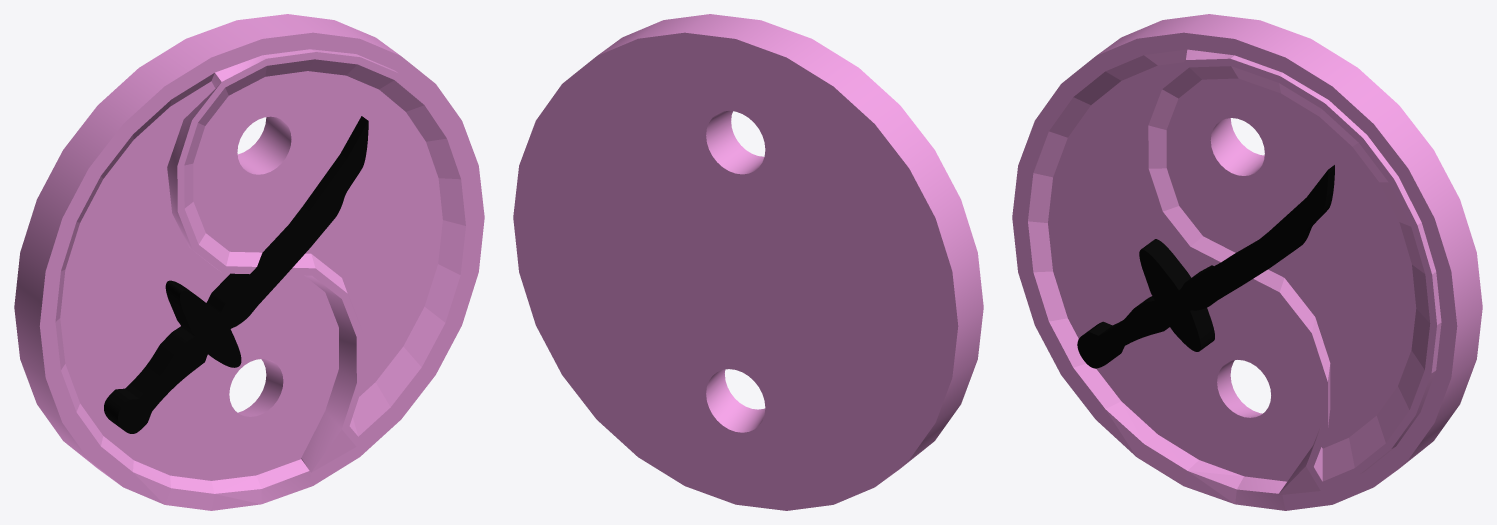
File: honmor_new.glb
3 renders of one model, left to right at view 1: azimuth 30°, elevation 25°; view 2: azimuth 150°, elevation 25°; view 3: azimuth 330°, elevation 25°, orthographic.
Visible parts, largest first — view 1: Circle003, Layer:layer 1; view 2: Circle003; view 3: Circle003, Layer:layer 1.
Part boxes in pixels (x1,y1,x2,y2): Circle003: [14, 14, 484, 510]; Layer:layer 1: [104, 116, 368, 433]; Circle003: [513, 14, 983, 510]; Circle003: [1012, 14, 1482, 510]; Layer:layer 1: [1077, 165, 1334, 368].
Bounding box in the file's own units: 2.76 × 2.76 × 0.3432.
